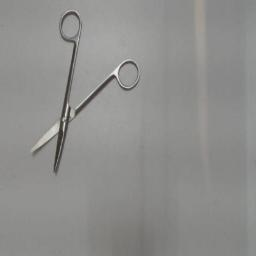Curved Mayo Scissors: (28, 5, 144, 179)
